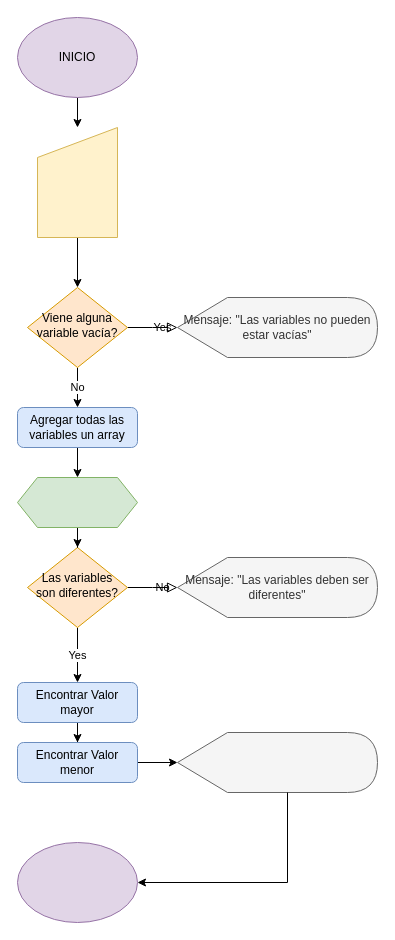
This 395x940 diagram has some shape labels left out. The centre of each missing label's shape, as x and y in pixels:
FIN: point 77,882
Ingrese A Ingrese B Ingrese C Ingrese D: point 77,182
Mensaje: "El valor mayor es: _ y el valor menor es: _": point 277,762
Recorrer el array dos veces: point 77,502
